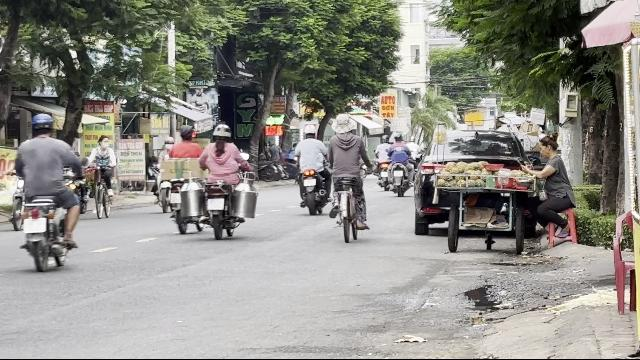helmet: (28, 112, 54, 136), (211, 124, 231, 144)
licenseplate: (23, 218, 47, 234), (206, 198, 224, 209)
motorcyclist: (9, 112, 83, 270), (196, 124, 252, 238)
nohelmet: (580, 0, 638, 52)
